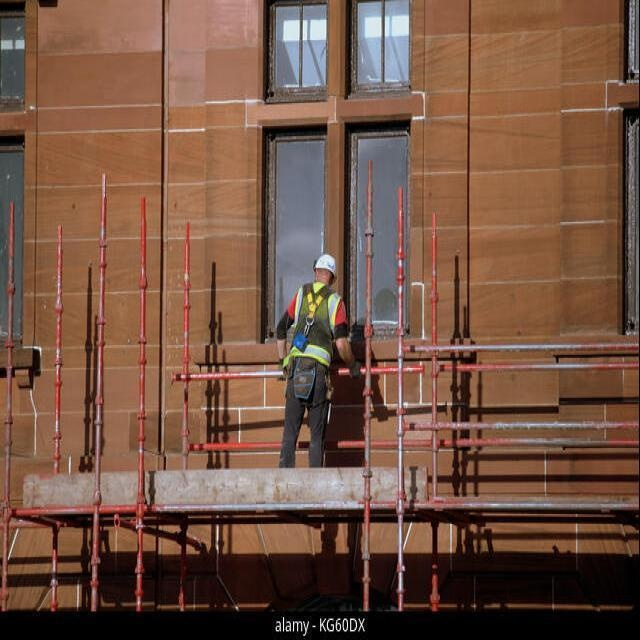Arnes_seguridad: (283, 282, 338, 372)
